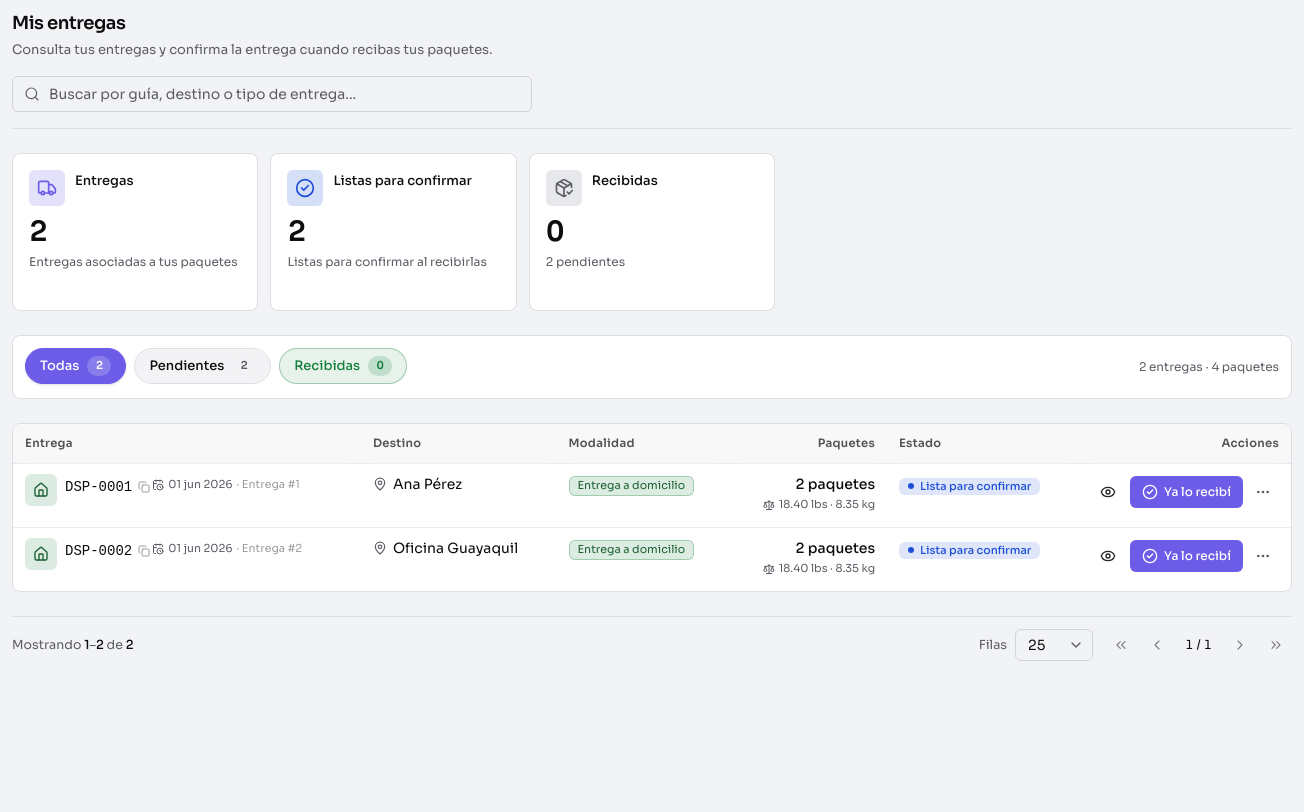
Test: MisEntregasPage · listado de cliente › filtra por destino al buscar
This screenshot has width=1304, height=812.
Type "guayaquil" into the field with placeholder "Buscar por guía, destino o tipo de entrega..." at (272, 94), box left=12, top=76, right=532, bottom=112
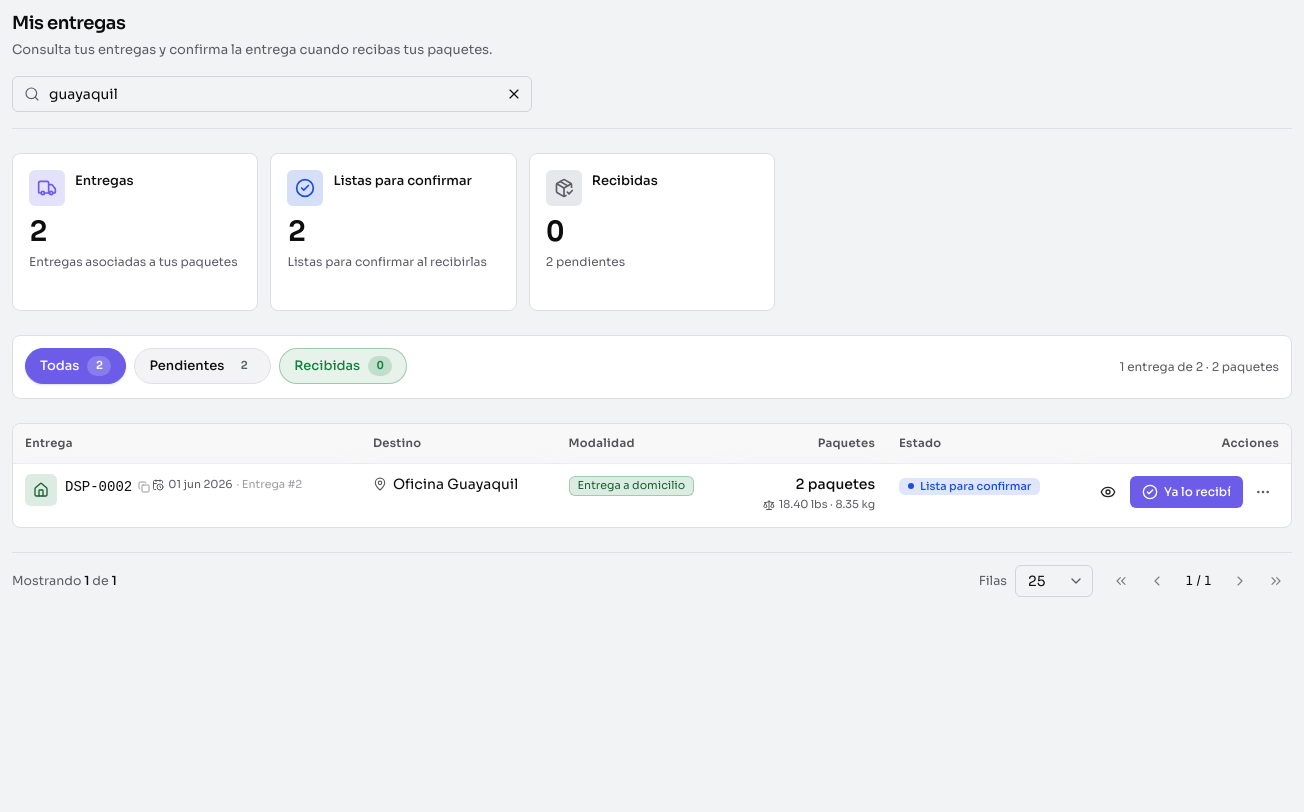
Expected: the text "DSP-0001" is gone
